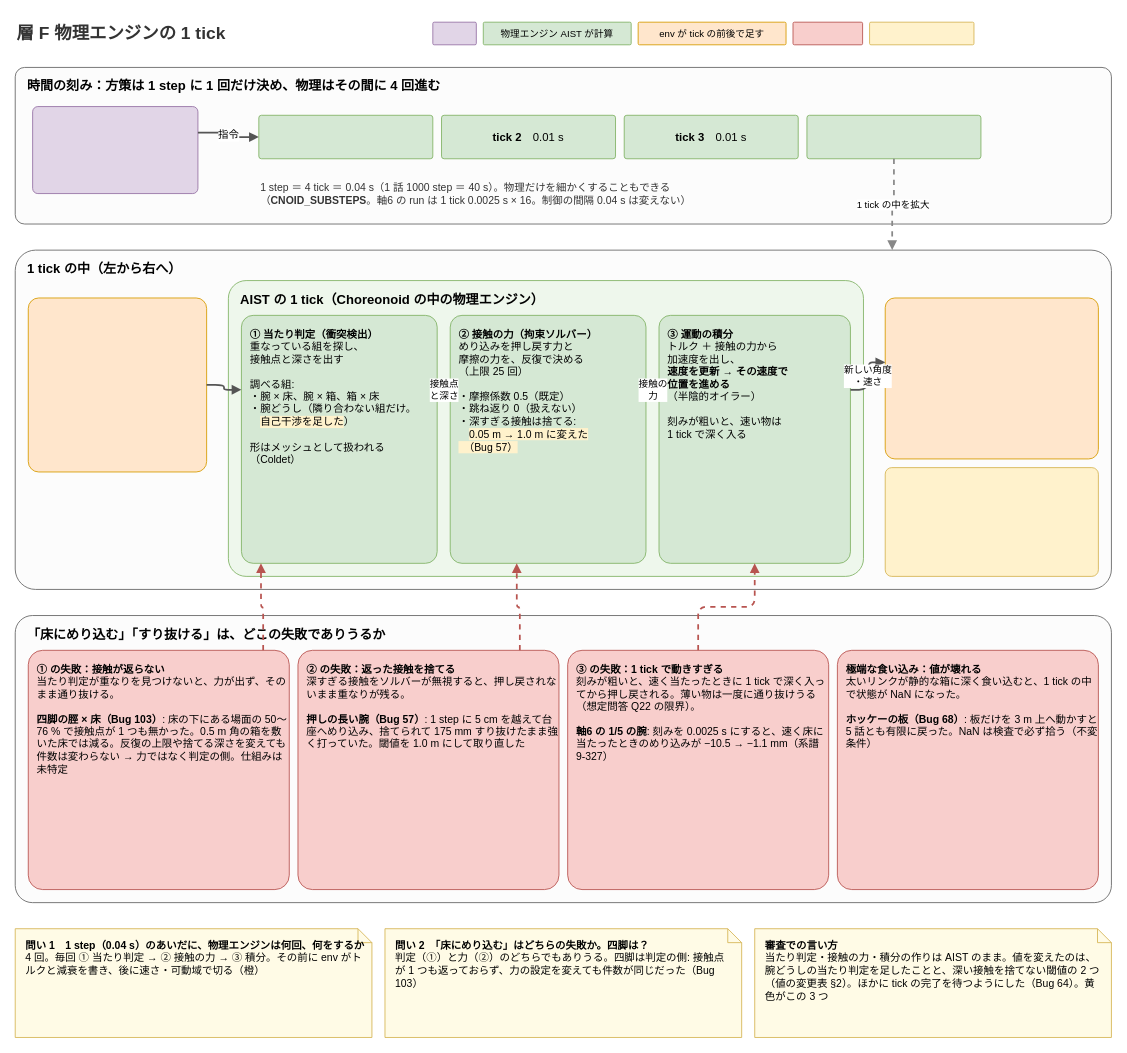
The diagram is 1127 pixels wide and 1053 high, and some of its shapes have lost their labels. The centre of each missing label's shape, as x and y in pixels:
"tick 1 0.01 s" goes at point 345,136.
"tick 4 0.01 s" goes at point 893,136.
"tick が終わるのを待つ （ CNOID_TICK_SYNC ） 待たないと、計算中の状態を env が読み書きし、物理が毎回ずれていた（Bug 64）" goes at point 991,521.
"tick の前（env） ・トルクを書く 指令 × ギア比 ・関節の減衰 −b·q̇ をトルクに足す （AIST は減衰を扱わない）" goes at point 117,384.
"tick の後（env） ・関節の速さの上限で切る （位置も進め直す。Bug 65） ・可動域で止める （AIST は守らない） ・壁の跳ね返り（ホッケー）" goes at point 991,378.
"失敗の型" goes at point 827,33.
"方策" goes at point 454,33.
"方策が行動を決める 1 step に 1 回 （指令はこの step の あいだ同じ）" goes at point 115,150.
"本研究で変えた値" goes at point 921,33.
